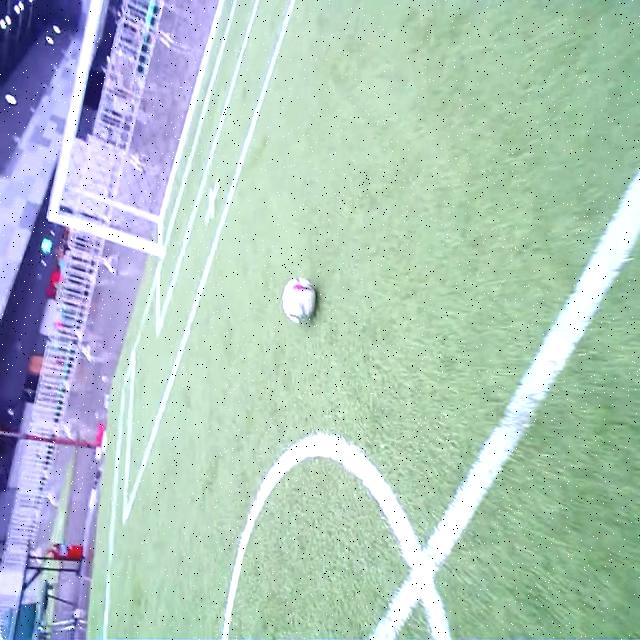ball: (283, 279, 318, 325)
